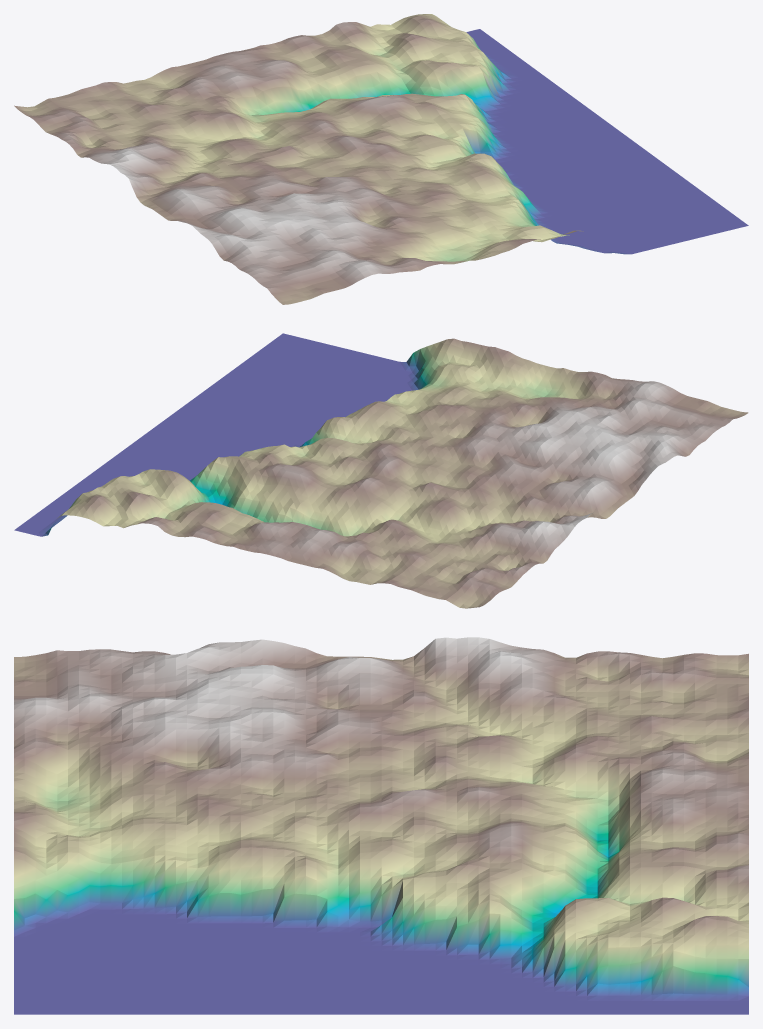
Rendered from 004187_terrain_only.glb.
The picture shows the model from 3 angles, top to bottom: view 1: azimuth 30°, elevation 25°; view 2: azimuth 150°, elevation 25°; view 3: azimuth 270°, elevation 25°; orthographic projection. The views are drawn at different scales.
Parts seen in each view (by area): view 1: terrain; view 2: terrain; view 3: terrain.
Part boxes in pixels (box(x1,y1,x2,y2)): terrain: box(14, 14, 748, 304); terrain: box(14, 333, 748, 608); terrain: box(14, 637, 748, 1014).
Bounding box in the file's own units: 0.0183 × 0.00185 × 0.0183.
